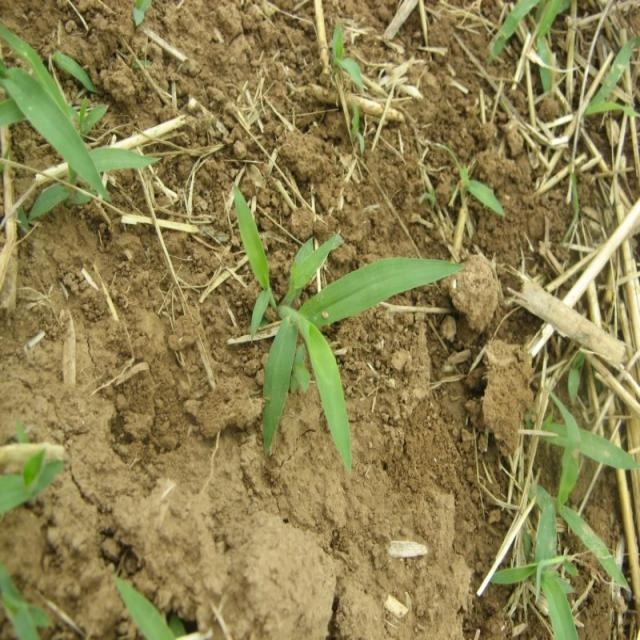bg: (232, 187, 462, 468)
